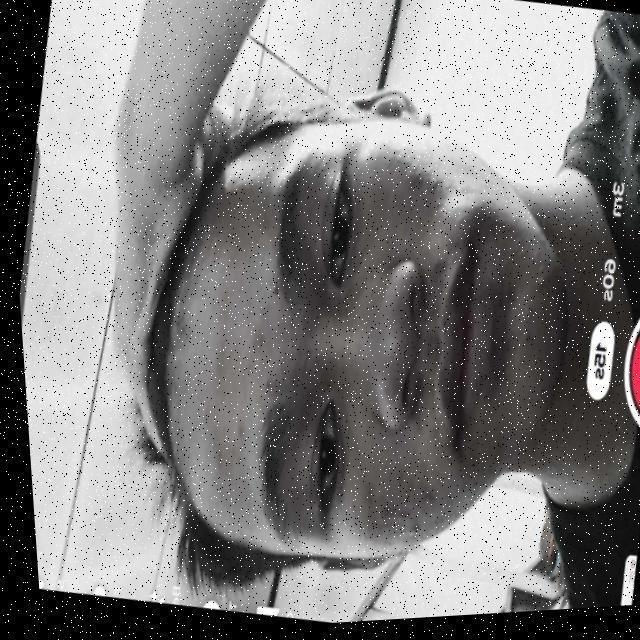Acne: (165, 225, 272, 381)
